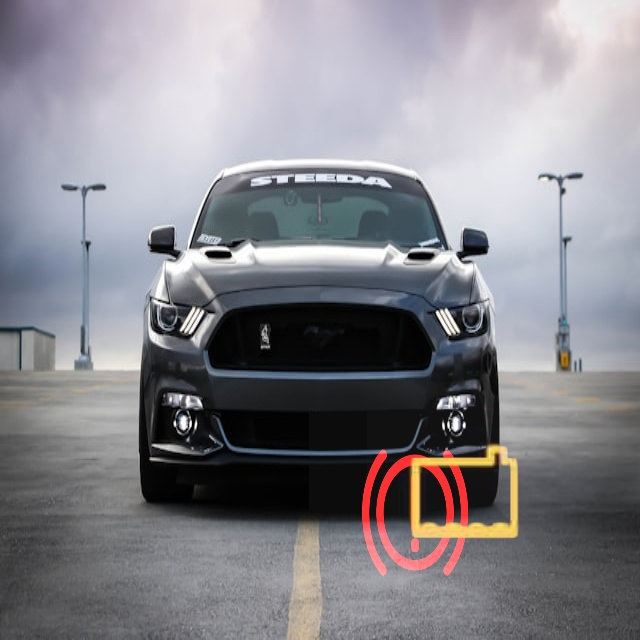symbol: (309, 402, 520, 613), (367, 395, 563, 591)
